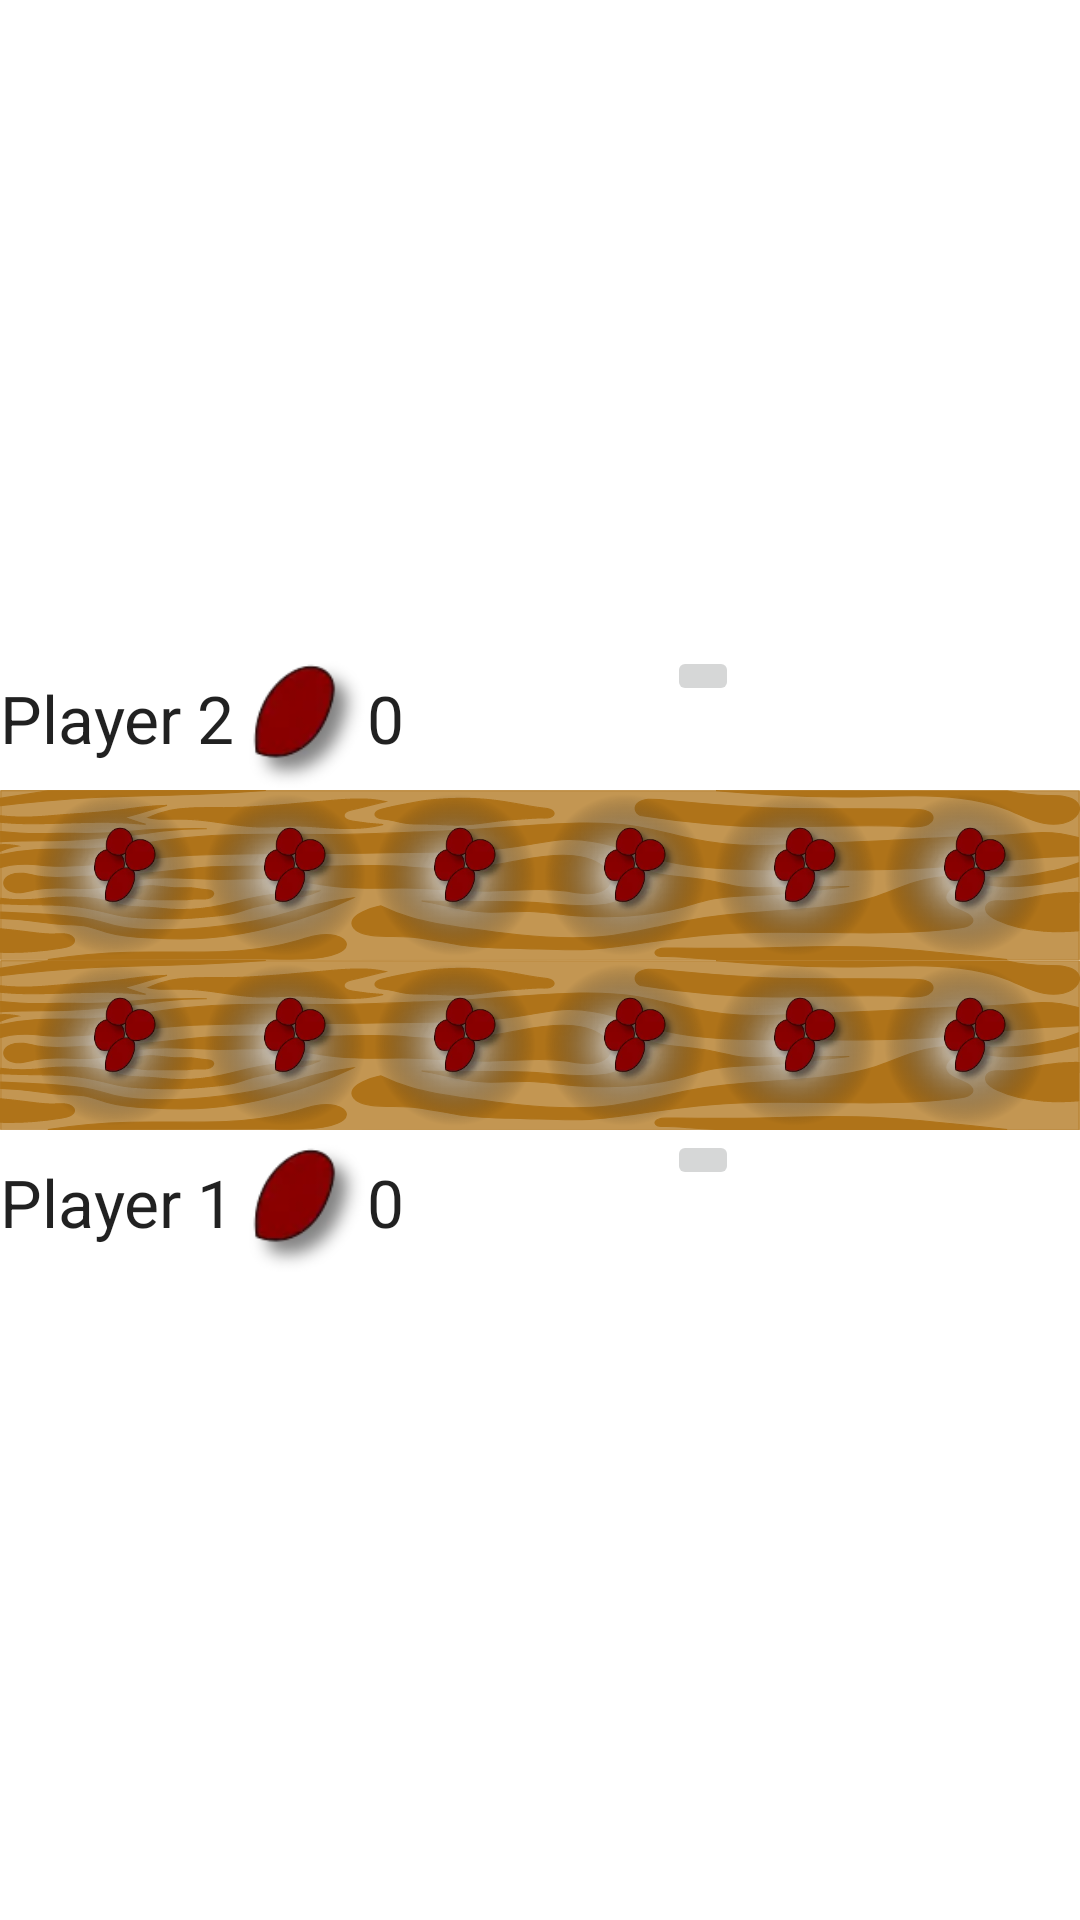

Point at icon controls on the screen. Image size 1080*1920, points as (x=x, y=y).
seed: (x=303, y=720), (x=303, y=1204)
